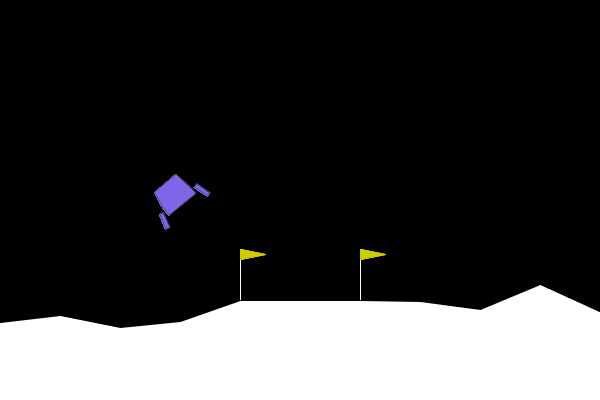lander: (140, 163, 212, 232)
